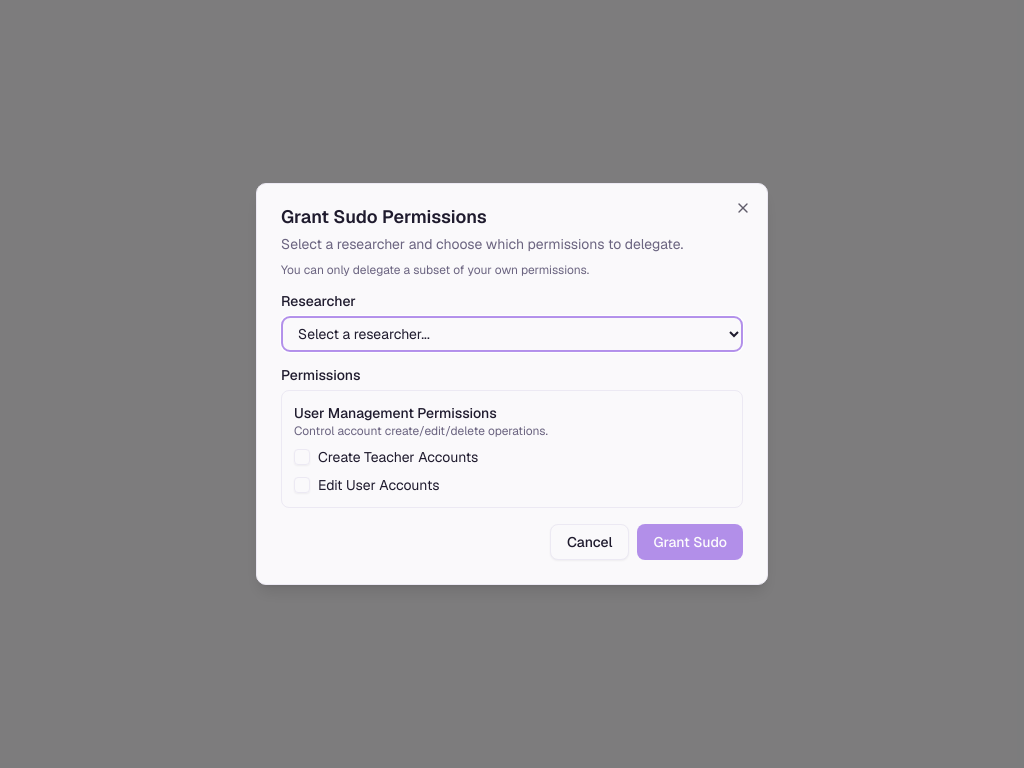
Test: GrantSudoDialog › preloads permissions when selecting researcher with existing grant
Select "Alice (alice@test.com)" in the dropdown labelled "Researcher": (512, 334) [281, 316, 743, 352]
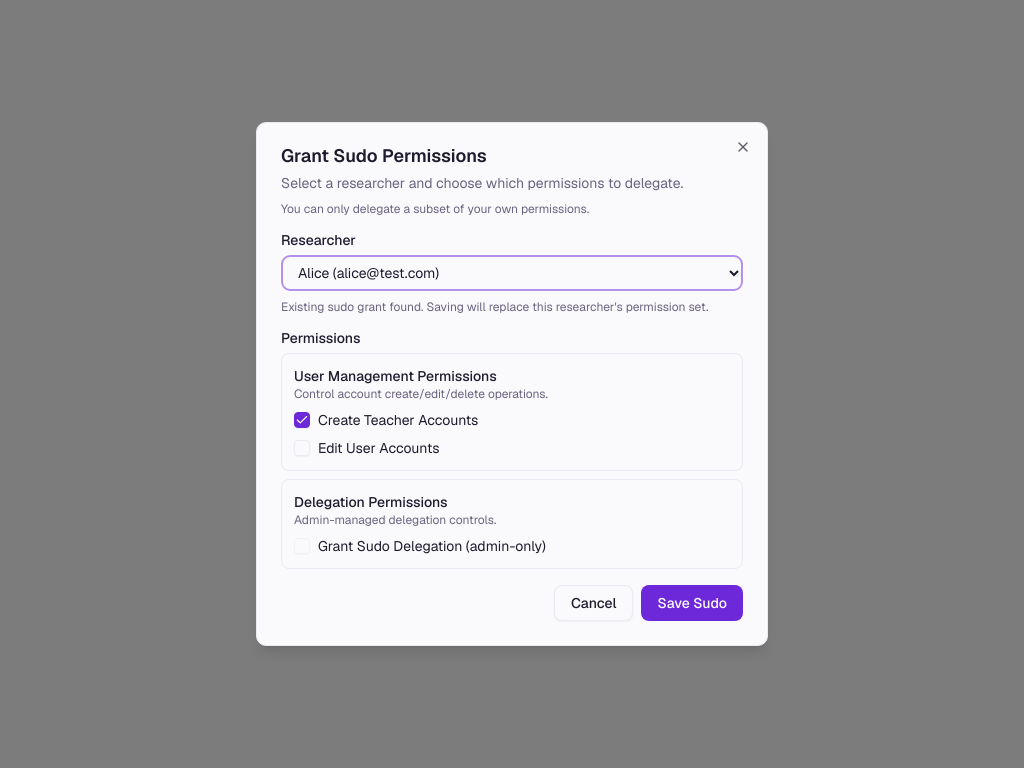
Expected: the checkbox named "Create Teacher Accounts" next to "Create Teacher Accounts" is checked, [294, 412, 310, 428]
Expected: the text "Existing sudo grant found. Saving will replace this researcher's permission set." is shown, [281, 299, 743, 315]
Expected: the button "Save Sudo" is shown, [642, 585, 743, 621]
